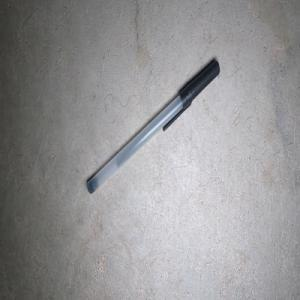Pen: (87, 60, 219, 193)
